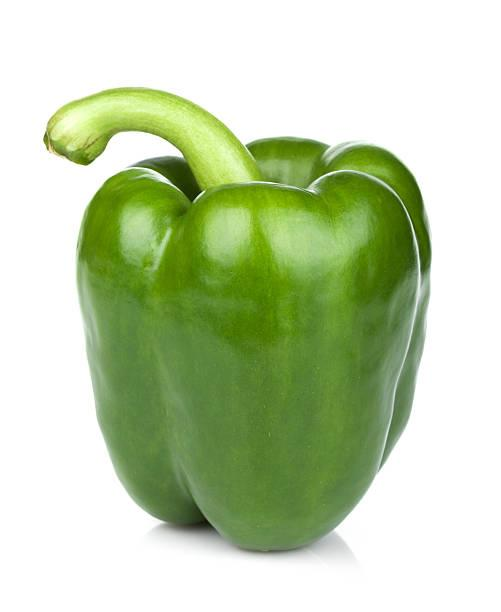Capsicum: (43, 79, 434, 553)
